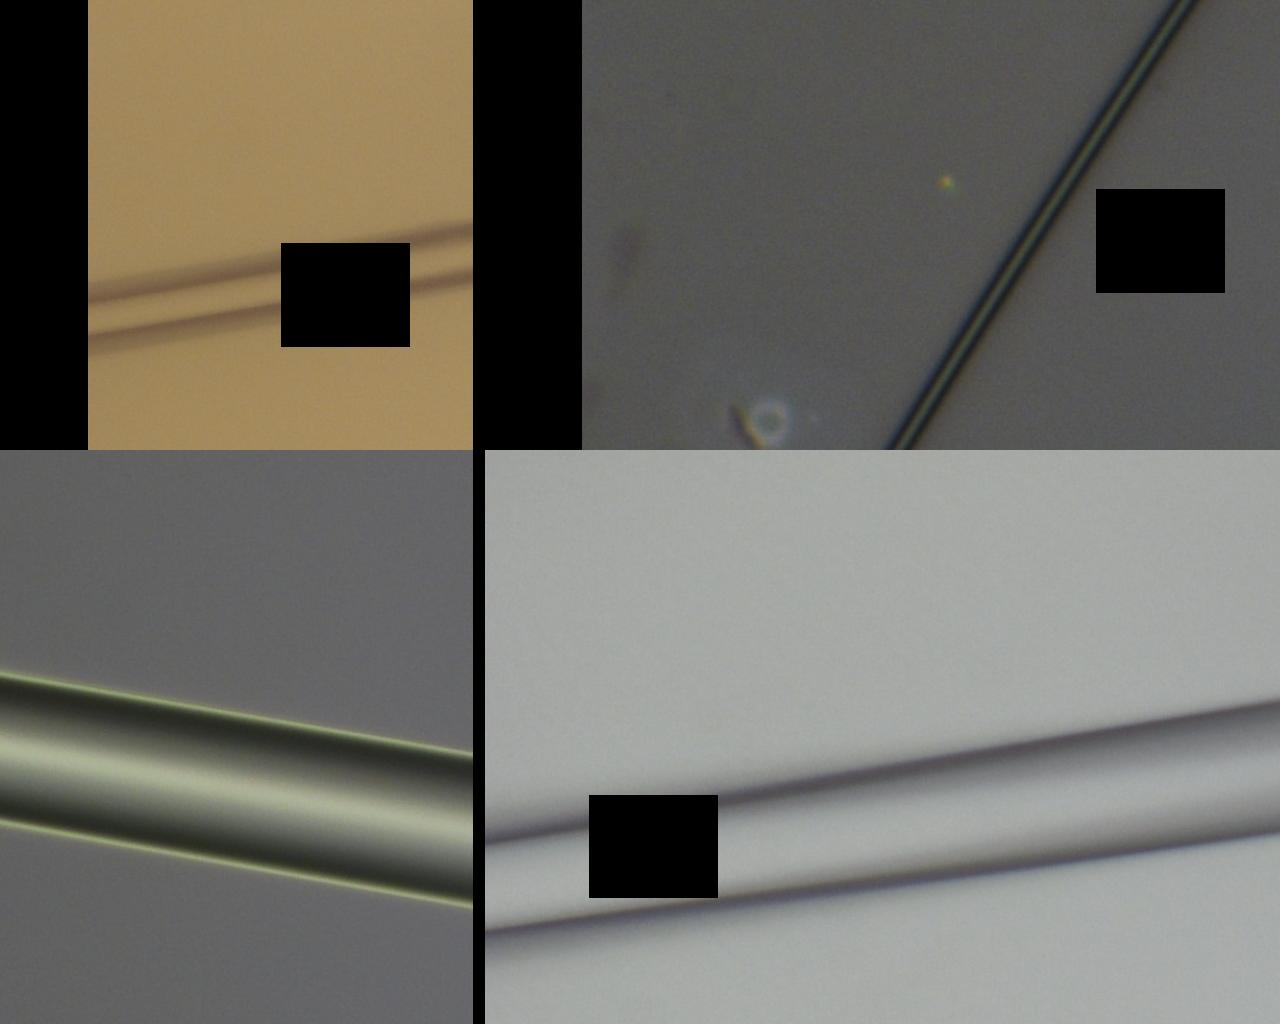fiber: (921, 0, 1280, 542), (597, 584, 786, 1024), (118, 199, 473, 421), (121, 837, 473, 1024)
